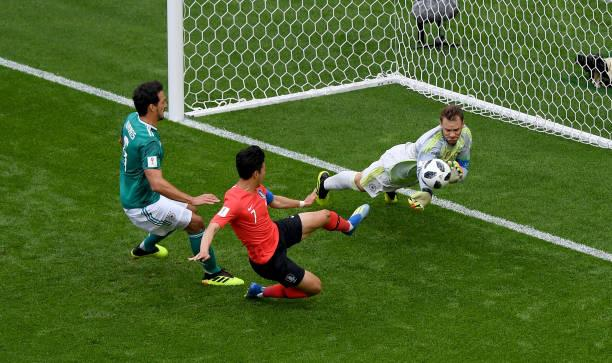Goalkeeper: (317, 105, 472, 210)
Player: (189, 145, 369, 299), (120, 81, 220, 258), (202, 249, 244, 286)
ball: (421, 159, 451, 189)
